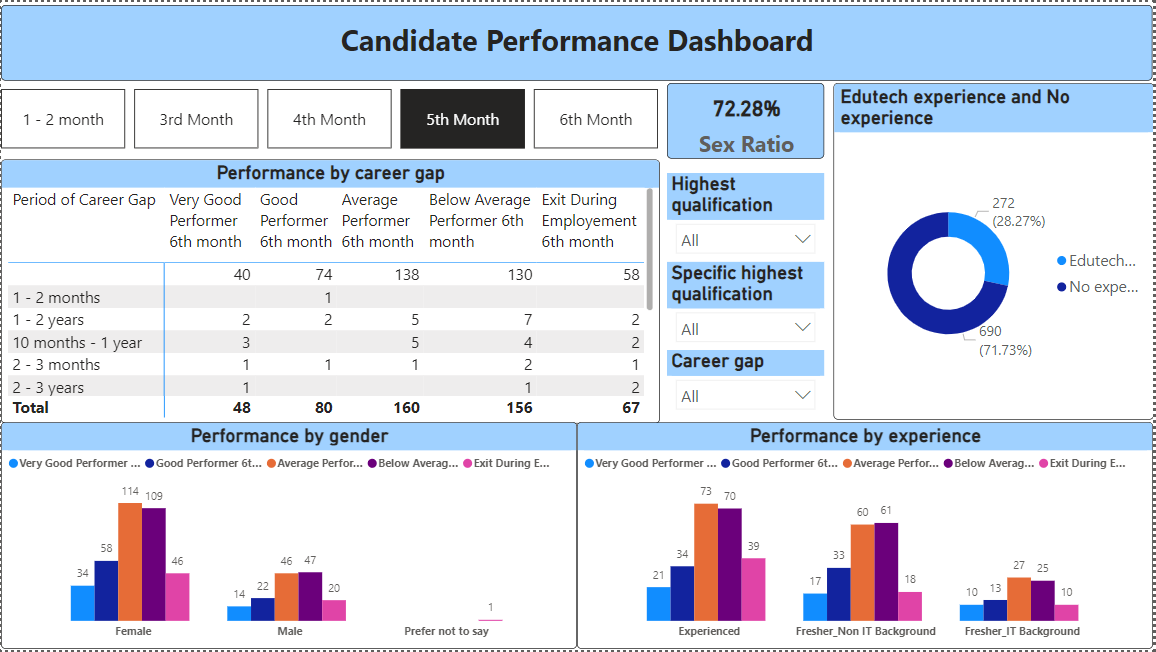

This screenshot's page, from the dashboard's own definition file:
{"tool":"powerbi","page":{"name":"Performance Analysis","canvas":[1280,720],"ordinal":0},"visuals":[{"type":"textbox","box":[0,3.2,1279.2,84.2],"z":1000},{"type":"card","fields":{"Values":["Measures Table.Sex Ratio"]},"box":[740,90.7,174.9,84.2],"z":2000},{"type":"pivotTable","title":"Performance by career gap","fields":{"Rows":["Main_Table.Period of Career Gap"],"Values":["6th month measure.Very Good Performer 6th month","6th month measure.Good Performer 6th month","6th month measure.Average Performer 6th month","6th month measure.Below Average Performer 6th month","6th month measure.Exit During Employement 6th month"]},"box":[0,174.9,731.9,293.1],"z":6000},{"type":"donutChart","fields":{"Y":["Measures Table.Edutech experience","Measures Table.No experience"]},"box":[924.6,90.7,356.2,374],"z":8000},{"type":"clusteredColumnChart","title":"Performance by gender","fields":{"Category":["Main_Table.Gender"],"Y":["6th month measure.Very Good Performer 6th month","6th month measure.Good Performer 6th month","6th month measure.Average Performer 6th month","6th month measure.Below Average Performer 6th month","6th month measure.Exit During Employement 6th month"]},"box":[0,467.3,640,251.9],"z":12000},{"type":"clusteredColumnChart","title":"Performance by experience","fields":{"Category":["Main_Table.Fresher/Experienced"],"Y":["6th month measure.Very Good Performer 6th month","6th month measure.Good Performer 6th month","6th month measure.Average Performer 6th month","6th month measure.Below Average Performer 6th month","6th month measure.Exit During Employement 6th month"]},"box":[640,467.3,640,251.9],"z":18000},{"type":"bookmarkNavigator","box":[0,97.2,731.9,66.4],"z":19000},{"type":"slicer","title":"Specific highest qualification","fields":{"Values":["Main_Table.Highest Qualification in specific"]},"box":[740,288.2,174.9,98.8],"z":20000},{"type":"slicer","title":"Highest qualification","fields":{"Values":["Main_Table.Highest Qualification"]},"box":[740,189.4,174.9,98.8],"z":21000},{"type":"slicer","title":"Career gap","fields":{"Values":["Main_Table.Do you have a Career Gap?"]},"box":[740,387,174.9,77.7],"z":22000}]}

Visuals, with their boxes in screenshot pixels (x1, y1, x2, y2), scaled from the page's 1280x720 canvas onto the 1156x652 screenshot:
textbox: x1=0 y1=3 x2=1155 y2=79
card - Measures Table.Sex Ratio: x1=668 y1=82 x2=826 y2=158
"Performance by career gap" pivotTable: x1=0 y1=158 x2=661 y2=424
donutChart - Measures Table.Edutech experience x Measures Table.No experience: x1=835 y1=82 x2=1155 y2=421
"Performance by gender" clusteredColumnChart: x1=0 y1=423 x2=578 y2=651
"Performance by experience" clusteredColumnChart: x1=578 y1=423 x2=1155 y2=651
bookmarkNavigator: x1=0 y1=88 x2=661 y2=148
"Specific highest qualification" slicer: x1=668 y1=261 x2=826 y2=350
"Highest qualification" slicer: x1=668 y1=172 x2=826 y2=261
"Career gap" slicer: x1=668 y1=350 x2=826 y2=421
